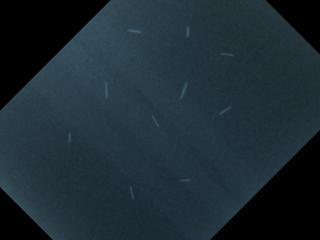scratch: (171, 77, 196, 106), (212, 45, 242, 65), (144, 108, 168, 132), (171, 171, 197, 190), (123, 180, 141, 206), (215, 100, 236, 121), (96, 80, 117, 100), (179, 21, 198, 42), (124, 23, 148, 39), (61, 127, 78, 149)
